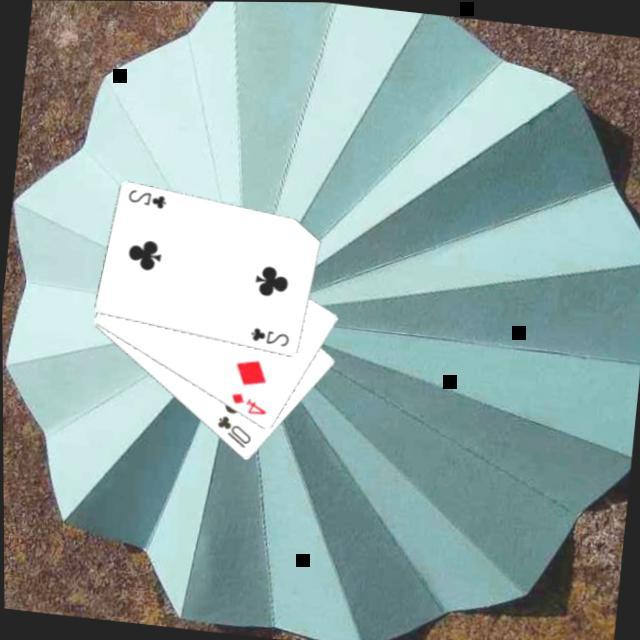10C: (209, 410, 255, 450)
2C: (246, 322, 292, 348), (122, 184, 168, 210)
4D: (225, 386, 269, 416)
